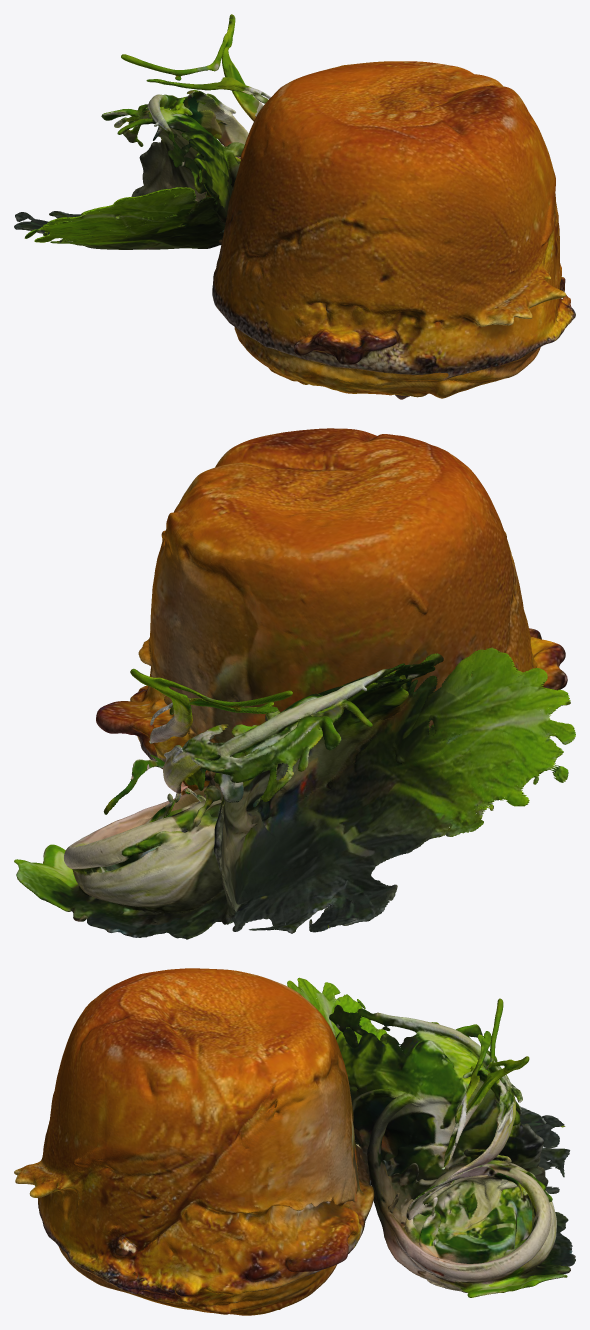
The model's file is onionpie.glb.
The picture shows the model from 3 angles, top to bottom: view 1: azimuth 30°, elevation 25°; view 2: azimuth 150°, elevation 25°; view 3: azimuth 270°, elevation 25°; orthographic projection. The views are drawn at different scales.
Parts seen in each view (by area): view 1: tripo_node_d6192284-776e-44c9-87b2-8583eb605d94; view 2: tripo_node_d6192284-776e-44c9-87b2-8583eb605d94; view 3: tripo_node_d6192284-776e-44c9-87b2-8583eb605d94.
Part boxes in pixels (x1,y1,x2,y2): tripo_node_d6192284-776e-44c9-87b2-8583eb605d94: [14, 14, 575, 399]; tripo_node_d6192284-776e-44c9-87b2-8583eb605d94: [14, 428, 575, 939]; tripo_node_d6192284-776e-44c9-87b2-8583eb605d94: [14, 968, 575, 1315].
Size of the model in its own units: 0.8756 by 0.5286 by 1.
1 material, 1 textured.
